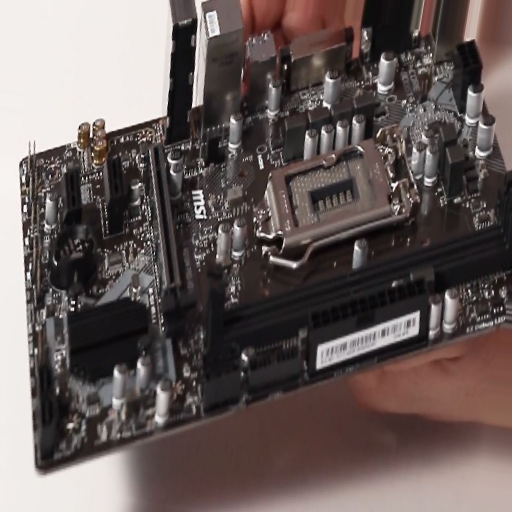CPU: (253, 127, 413, 252)
GPU: (145, 142, 195, 335)
MOTHERBOARD: (21, 32, 511, 477)
RAM: (201, 201, 512, 381)
